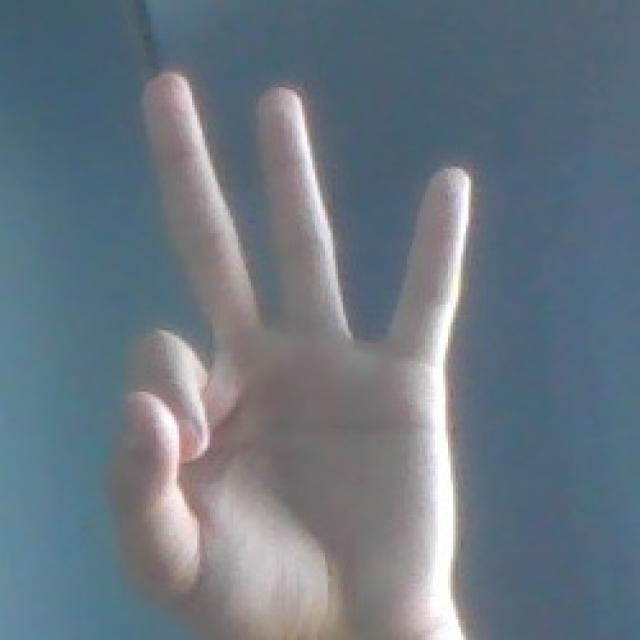Numeric-9: (110, 61, 476, 628)
